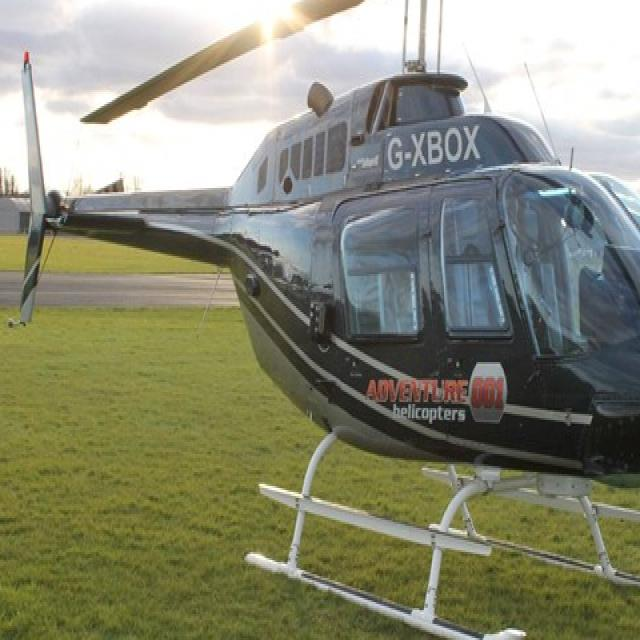helicopter: (18, 1, 640, 640)
